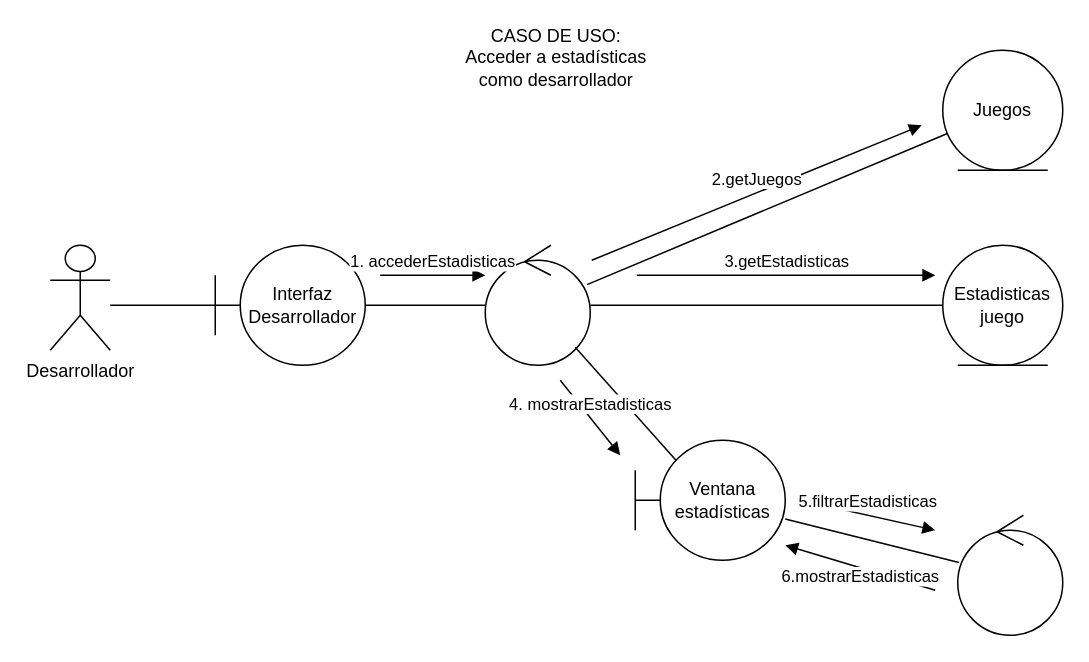
This 1089x662 diagram has some shape labels left out. Each missing label, with the centre of its shape:
"Filtrar datos" goes at (x=1009, y=574).
"Ver estadisticas" goes at (x=537, y=304).
